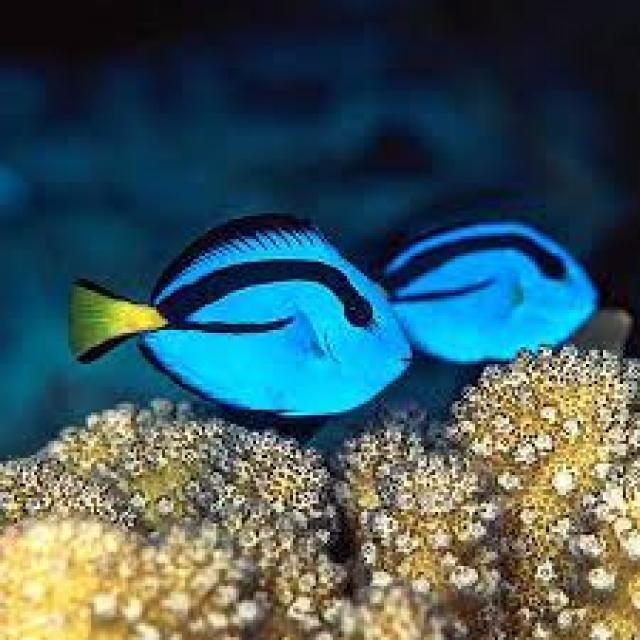TangFish: (63, 213, 411, 426), (375, 218, 596, 364)
